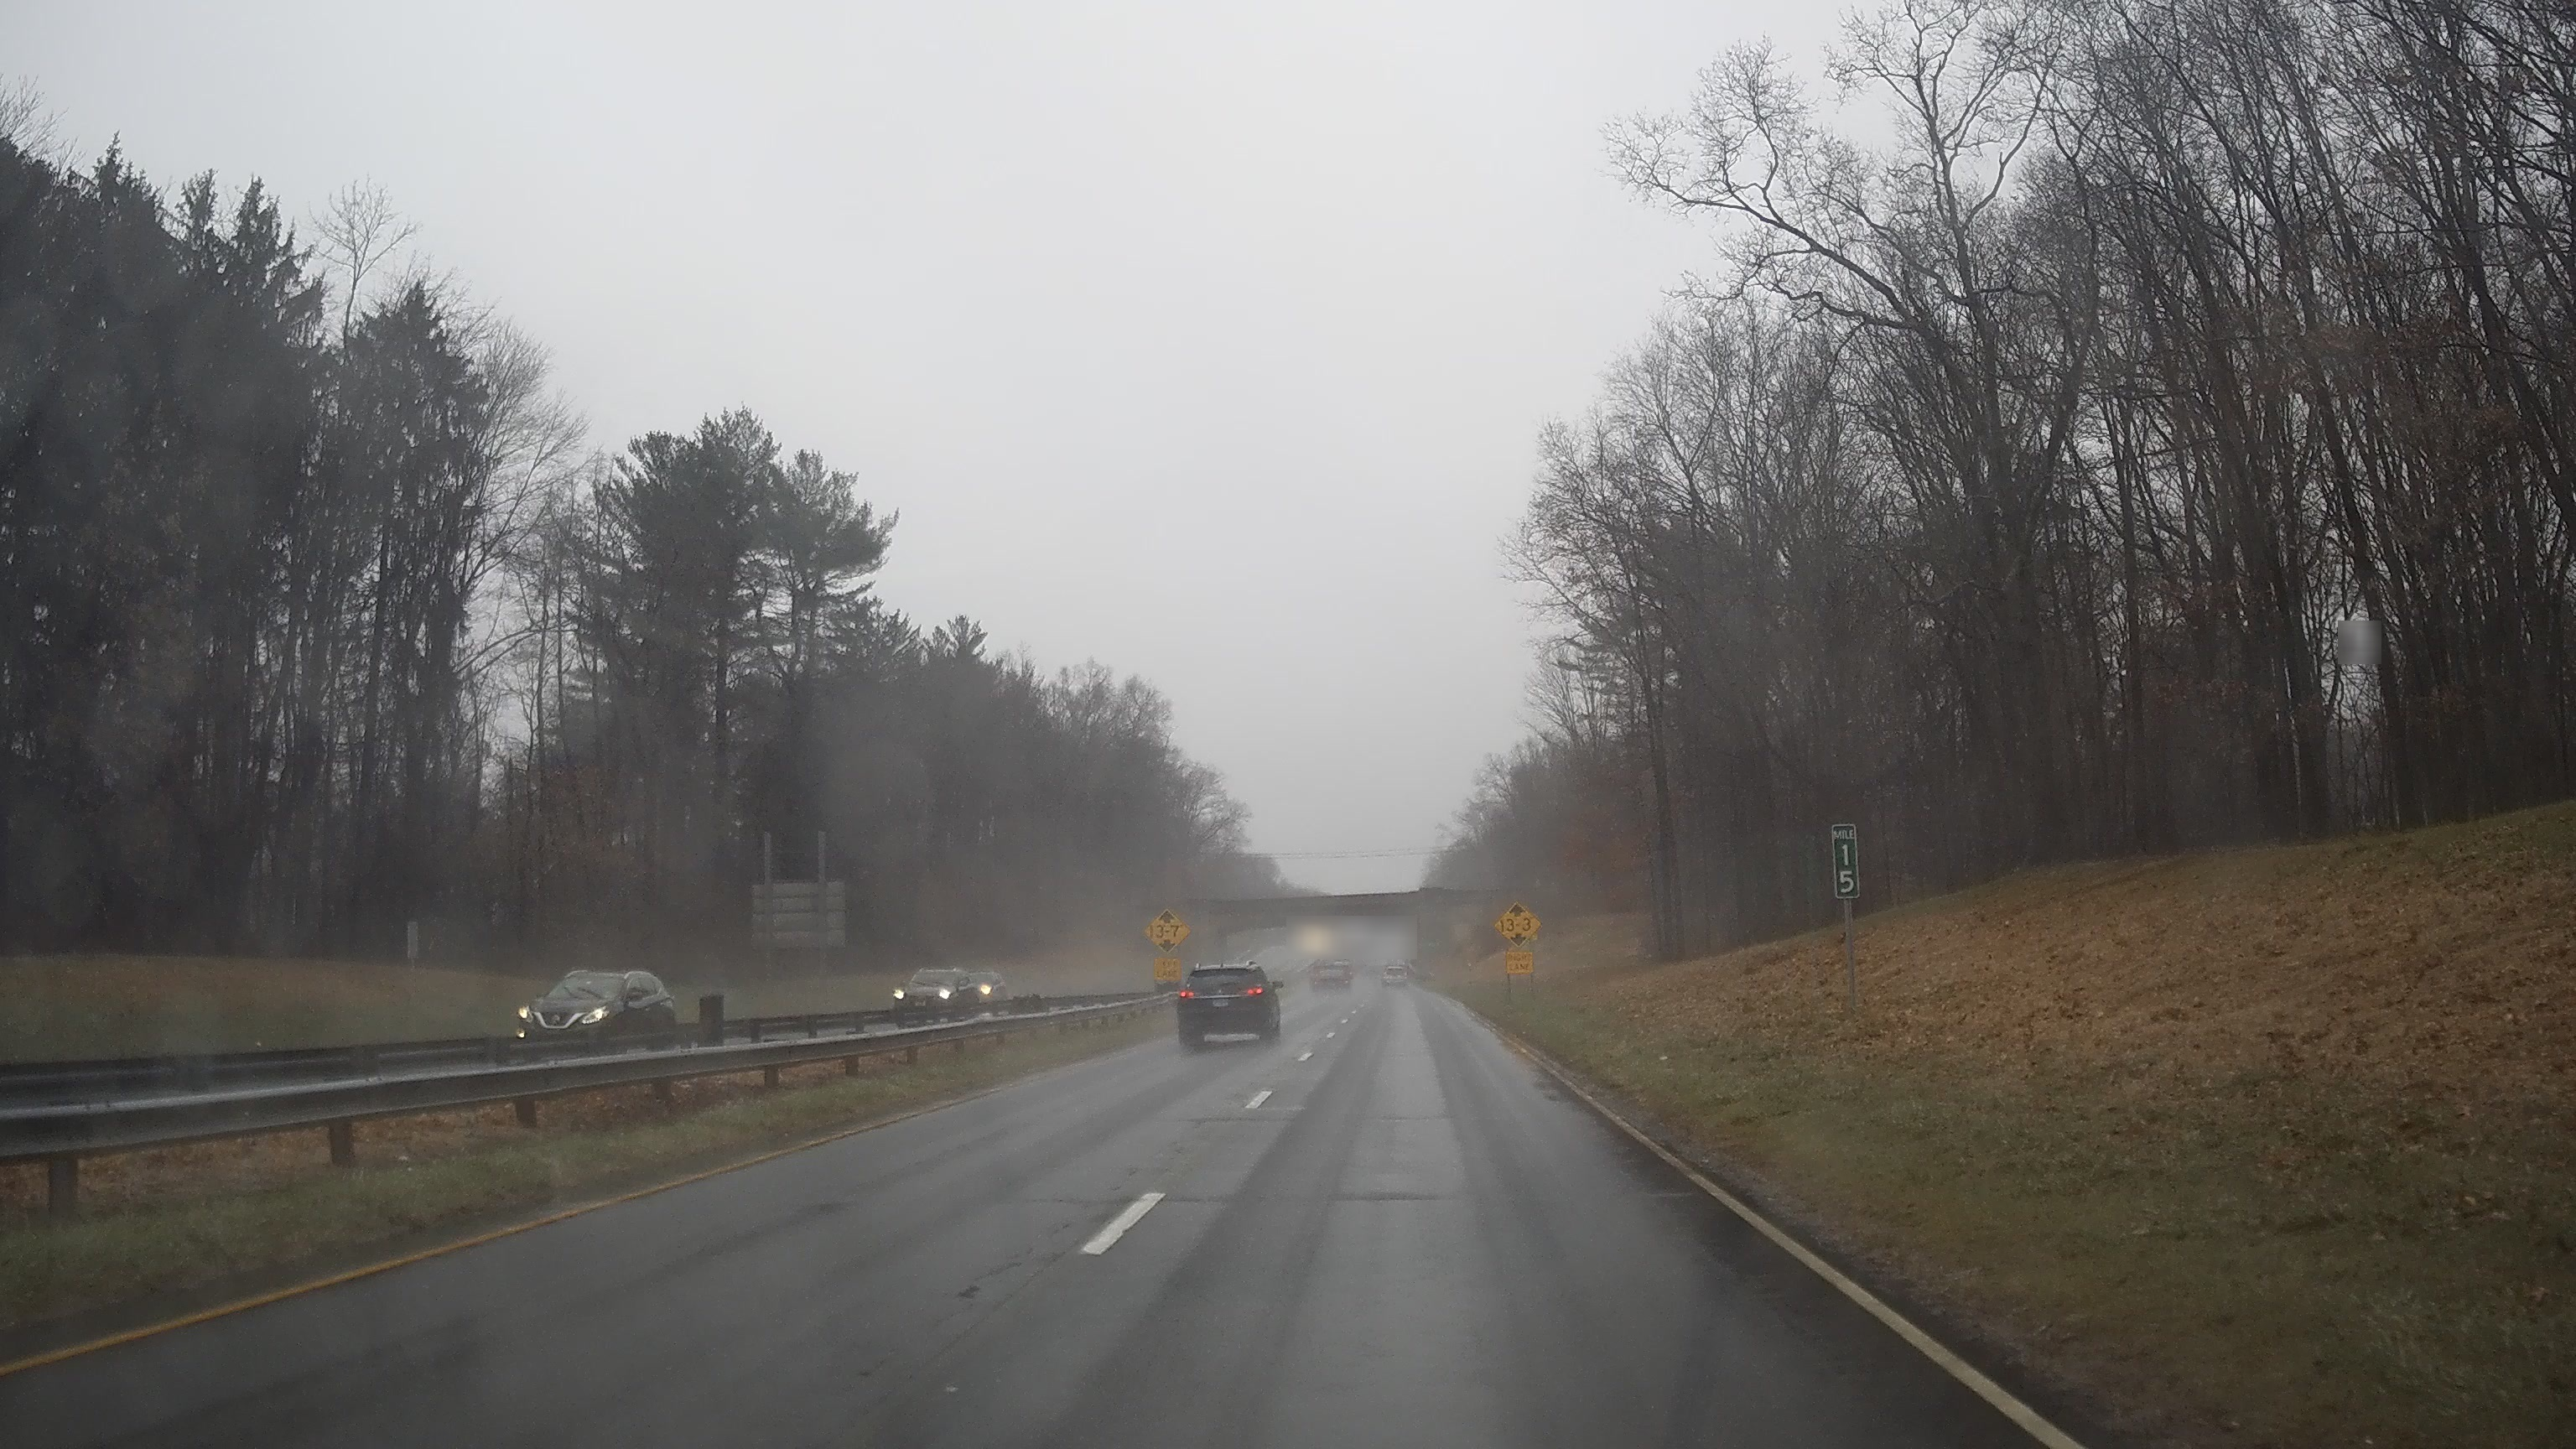low-clearance-sign: (1143, 908, 1192, 957), (1493, 901, 1543, 950)
